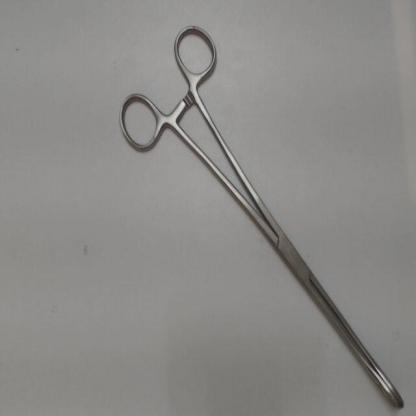Sponge Forceps: (112, 14, 409, 414)
